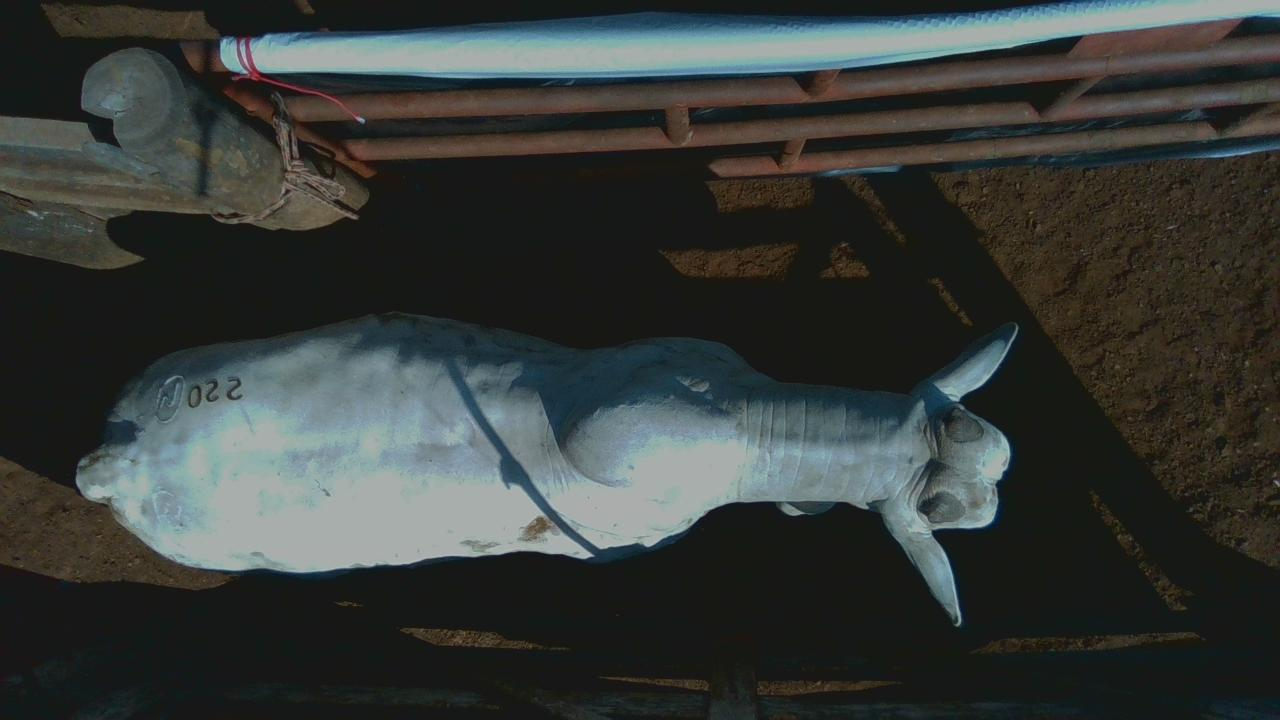cattle: (75, 309, 1019, 627)
